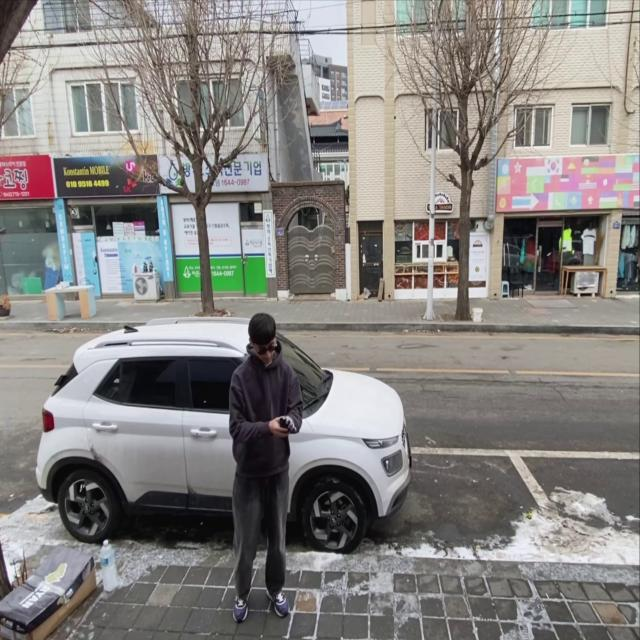bare_hand: (263, 414, 288, 439)
gloved_hand: (281, 409, 303, 433)
